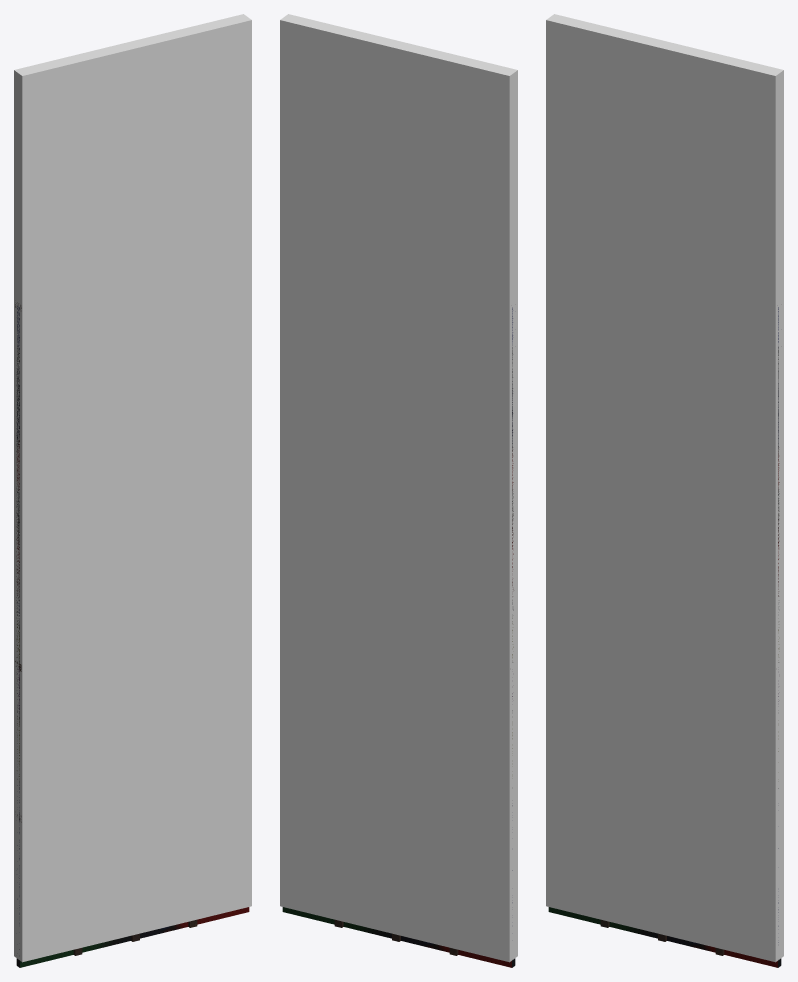
The model's file is ak_win_stained_lancet.glb.
The picture shows the model from 3 angles, left to right: view 1: azimuth 30°, elevation 25°; view 2: azimuth 150°, elevation 25°; view 3: azimuth 330°, elevation 25°; orthographic projection.
Visible parts, largest first — view 1: col_glass, glass_stained; view 2: col_glass, glass_stained; view 3: col_glass, glass_stained.
Boxes of the visible parts, box(x1,y1,x2,y2) form: col_glass: box(14, 14, 251, 962); glass_stained: box(15, 302, 249, 967); col_glass: box(280, 14, 517, 962); glass_stained: box(282, 307, 515, 967); col_glass: box(546, 14, 783, 962); glass_stained: box(548, 307, 781, 967).
Size of the model in its own units: 0.8 by 2.98 by 0.05.
Materials: 2 (2 with a texture image).
